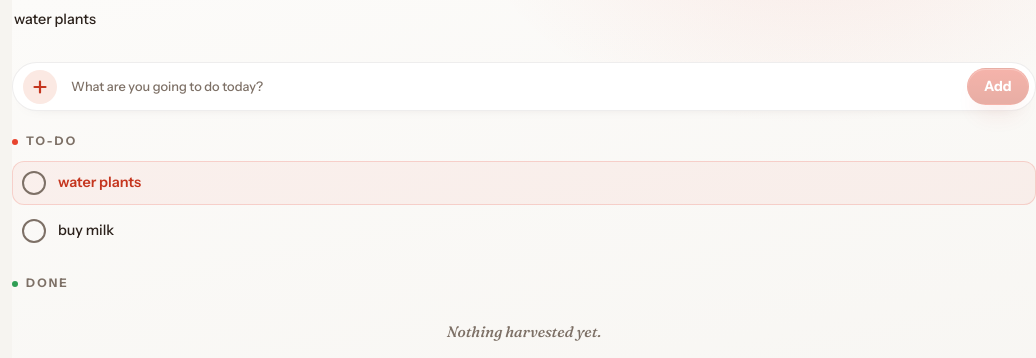
Test case: CheckListTab › pins the clicked task in the current-task line
Click the button with aria-label "Make current: buy milk" at (86, 230), box [58,220,950,242]
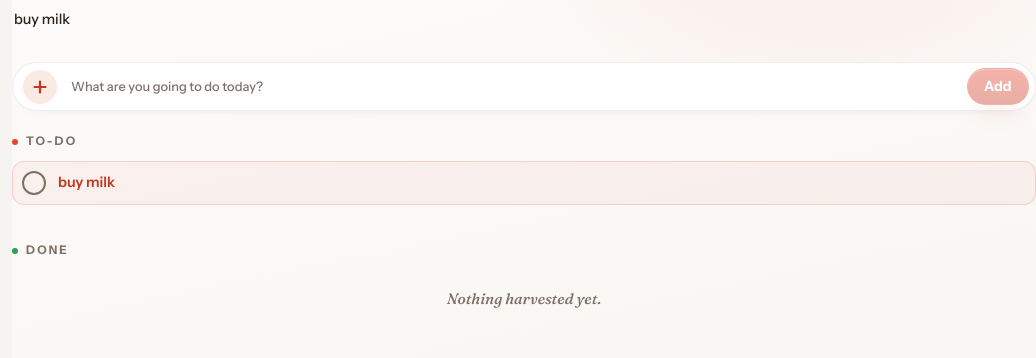
Expected: the text "buy milk" is shown, [14,9,70,31]
